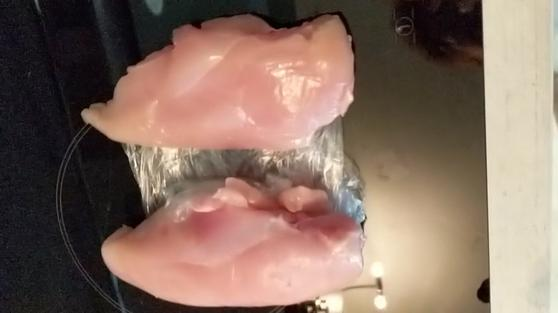chicken_fillet: (95, 165, 387, 307), (77, 13, 360, 155)
